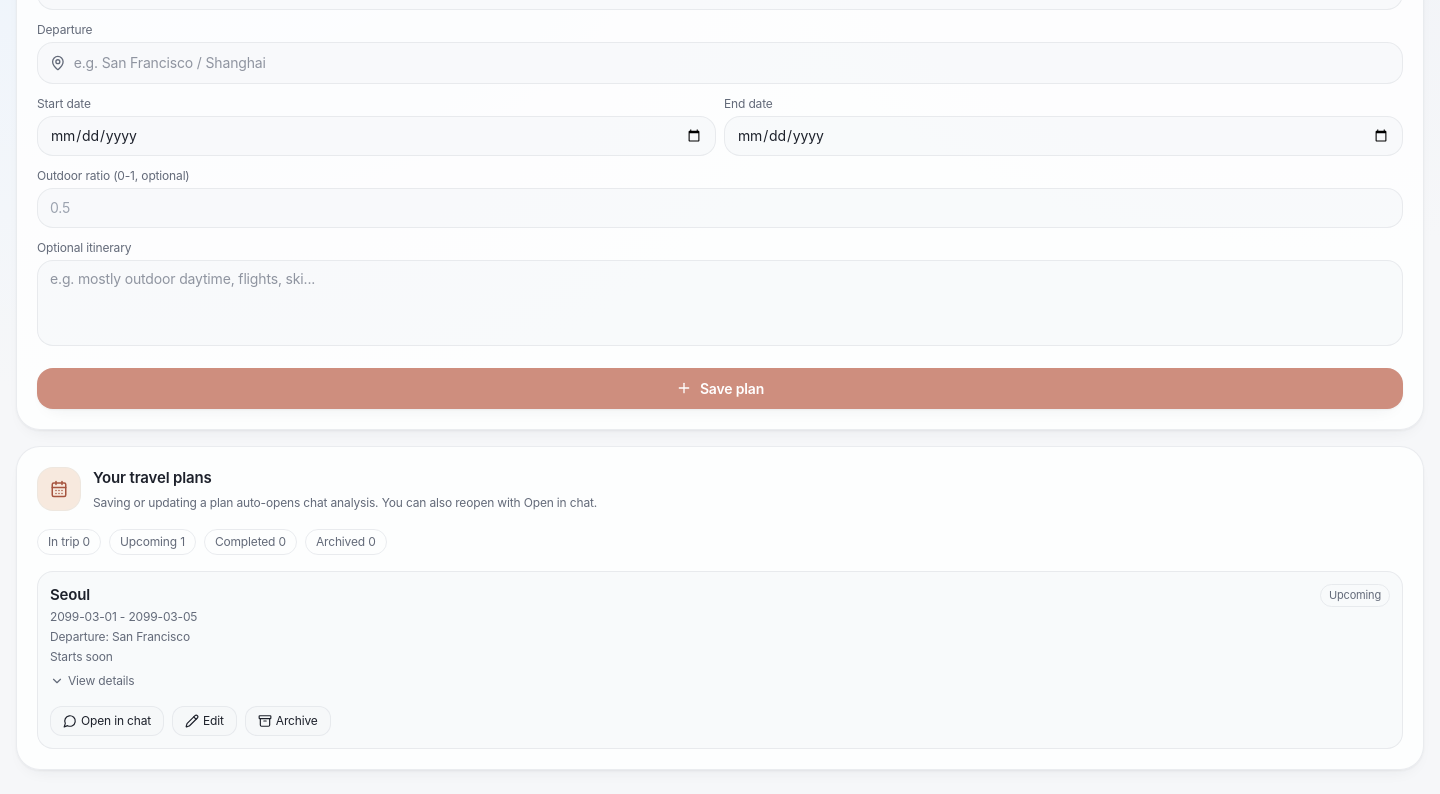
Plans page behavior › keeps plan details collapsed until user expands
(page scrolled)
Expected: the text "Seoul" is shown, [50,585,90,604]
Expected: the text "Mostly outdoor daytime with one red-eye flight." is not shown
Click the button "View details": [92, 680] box [50,672,134,688]
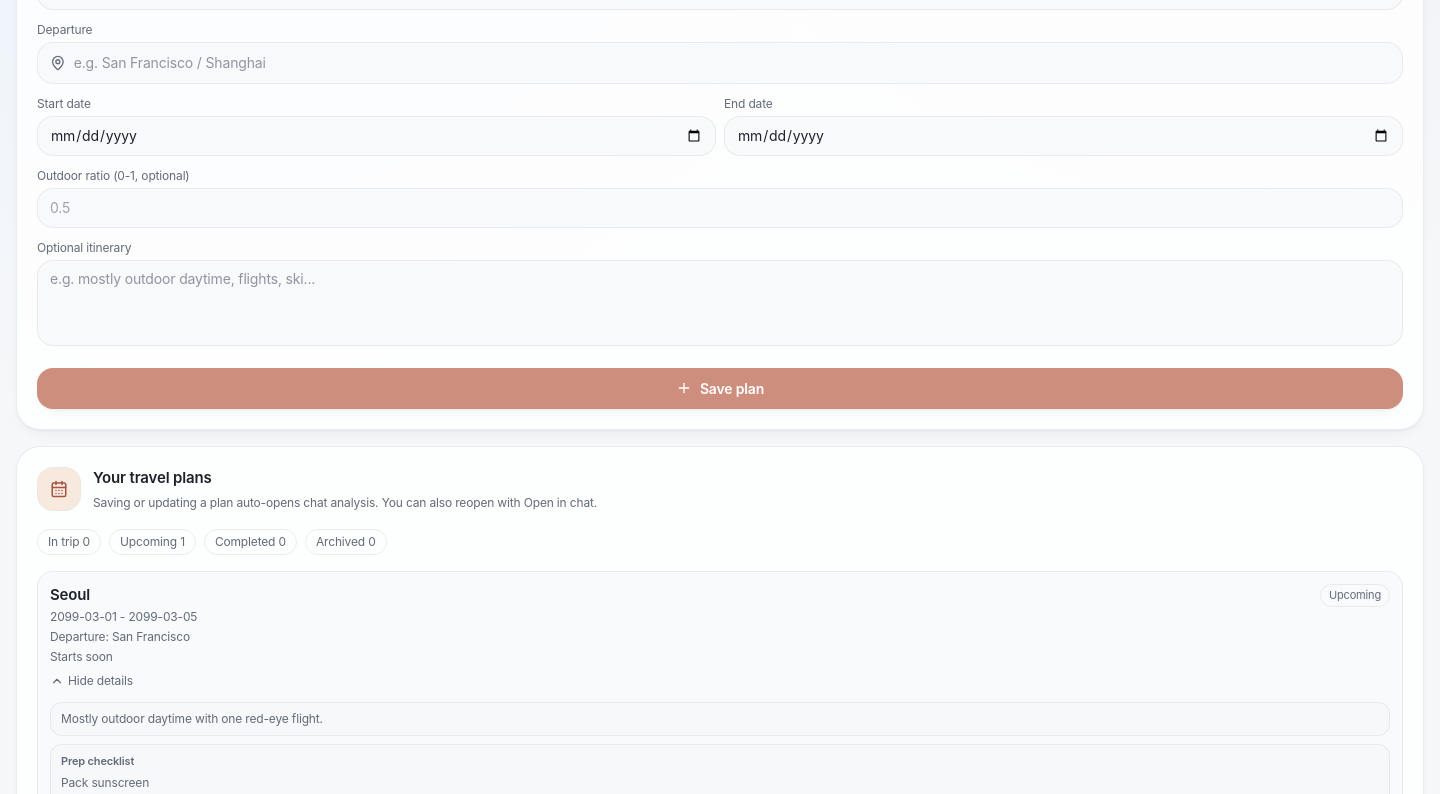
Now the text "Mostly outdoor daytime with one red-eye flight." is shown, box [50,702,1390,736]
Click the button "Hide details": [91, 680] box [50,672,133,688]
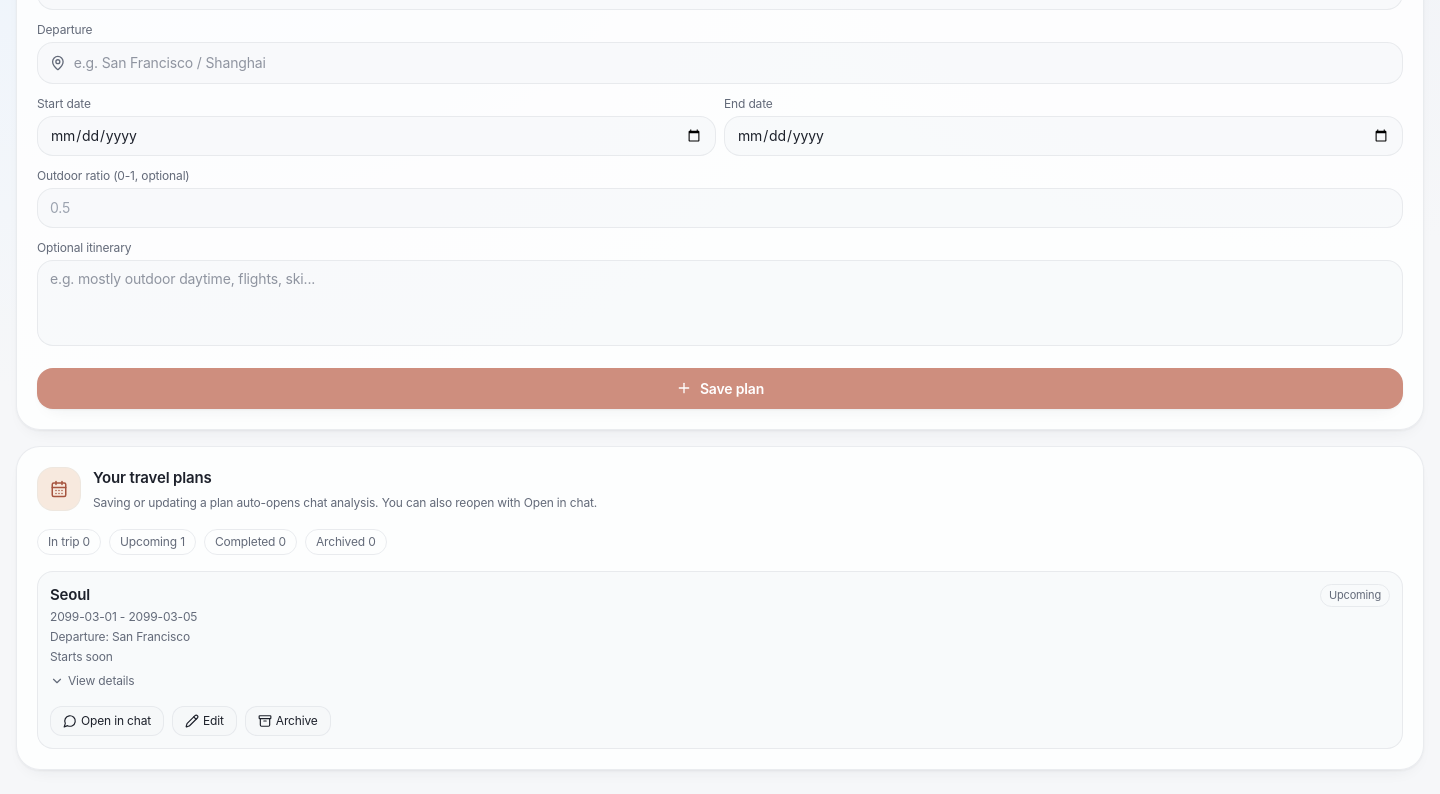
Now the text "Mostly outdoor daytime with one red-eye flight." is gone
